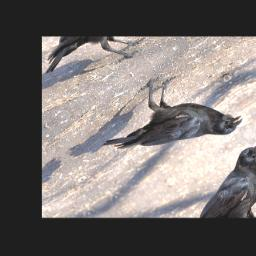Crow: (83, 54, 248, 191)
